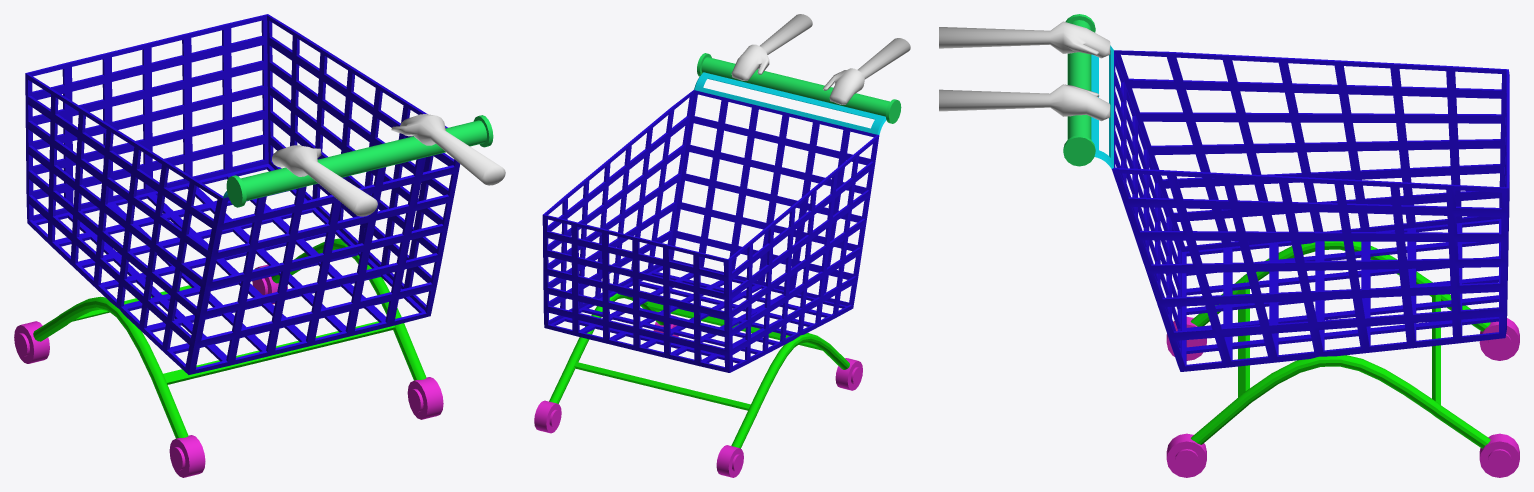
File: SM_Carro_02.fbx
3 renders of one model, left to right at view 1: azimuth 30°, elevation 25°; view 2: azimuth 150°, elevation 25°; view 3: azimuth 270°, elevation 25°, orthographic. The views are drawn at different scales.
Visible parts, largest first — view 1: Carro, M_Manos; view 2: Carro, M_Manos; view 3: Carro, M_Manos.
Part boxes in pixels (bbox=[...]): Carro: bbox=[14, 14, 493, 477]; M_Manos: bbox=[272, 114, 505, 216]; Carro: bbox=[534, 53, 901, 477]; M_Manos: bbox=[731, 14, 910, 104]; Carro: bbox=[1063, 14, 1519, 477]; M_Manos: bbox=[939, 21, 1110, 121].
Size of the model in its own units: 93.65 by 124 by 180.
